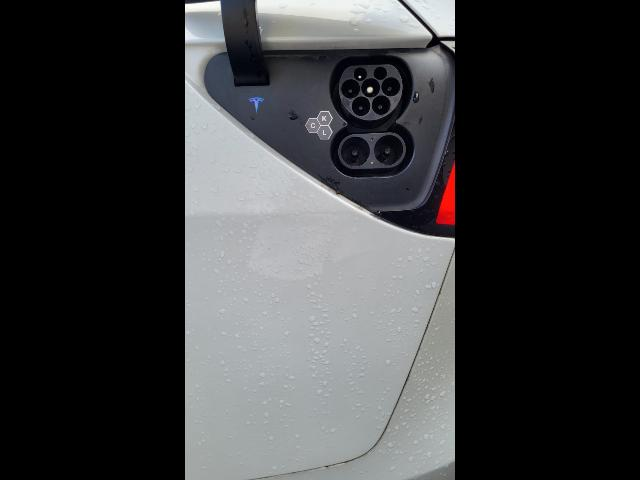inlet: (339, 64, 403, 120)
inlet-above-left: (353, 67, 367, 81)
inlet-above-right: (373, 67, 387, 80)
inlet-below-left: (352, 96, 370, 116)
inlet-below-right: (372, 95, 391, 115)
inlet-circle: (361, 78, 380, 98)
inlet-circle-left: (341, 79, 360, 99)
inlet-circle-right: (381, 77, 400, 97)
inlet-minus: (374, 135, 403, 165)
inlet-plus: (341, 137, 370, 167)
